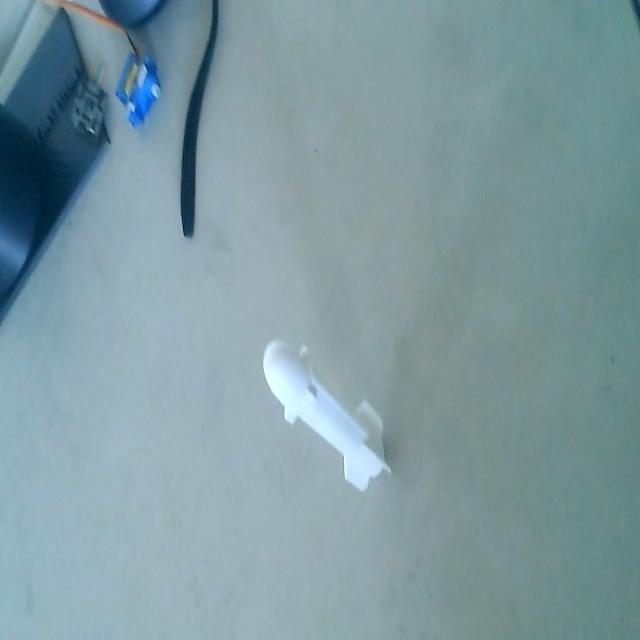Rocket: (257, 332, 393, 502)
